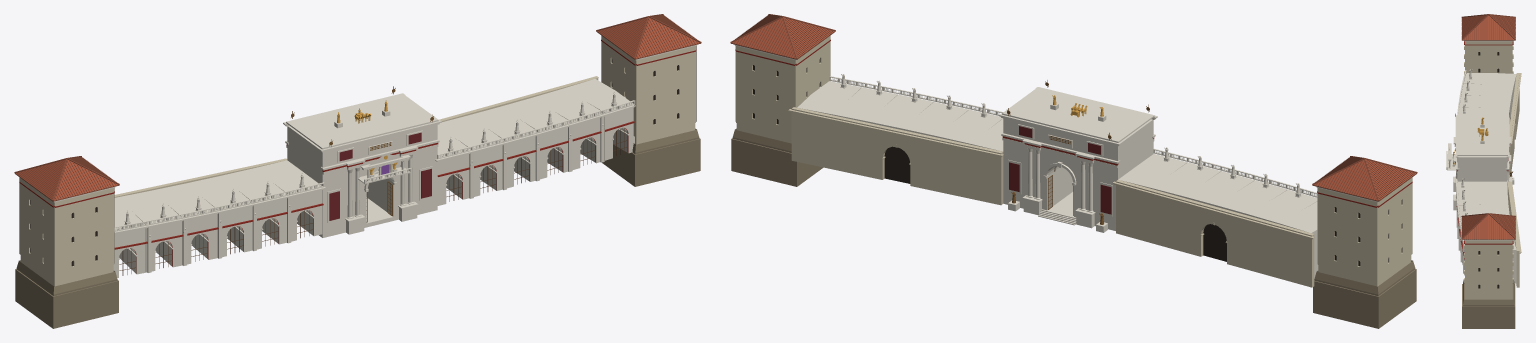
Rendered from rome_circus_carceres.glb.
3 views of the same model, side by side, from view 1: azimuth 30°, elevation 25°; view 2: azimuth 150°, elevation 25°; view 3: azimuth 270°, elevation 25° (orthographic). The views are drawn at different scales.
Parts seen in each view (by area): view 1: rome_circus_carceres; view 2: rome_circus_carceres; view 3: rome_circus_carceres.
Boxes of the visible parts, bbox=[...] form: rome_circus_carceres: bbox=[14, 14, 701, 328]; rome_circus_carceres: bbox=[730, 14, 1417, 328]; rome_circus_carceres: bbox=[1446, 14, 1521, 328].
Size of the model in its own units: 170 by 37.17 by 24.27.
